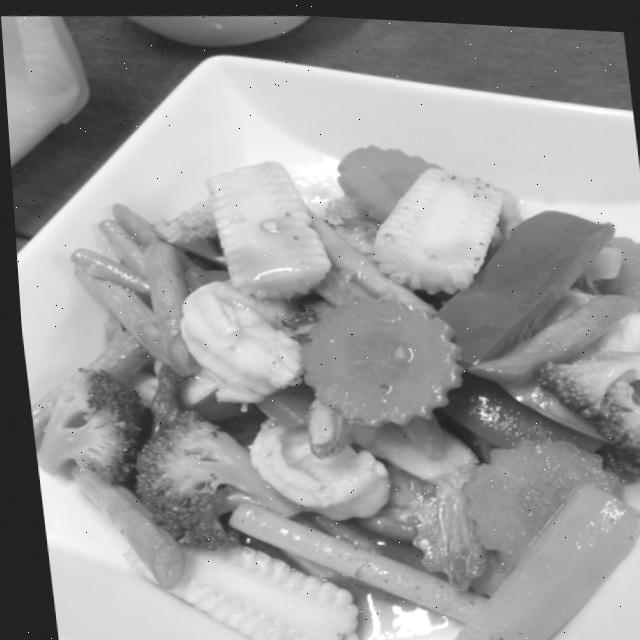蔬菜料理: (30, 92, 640, 640)
